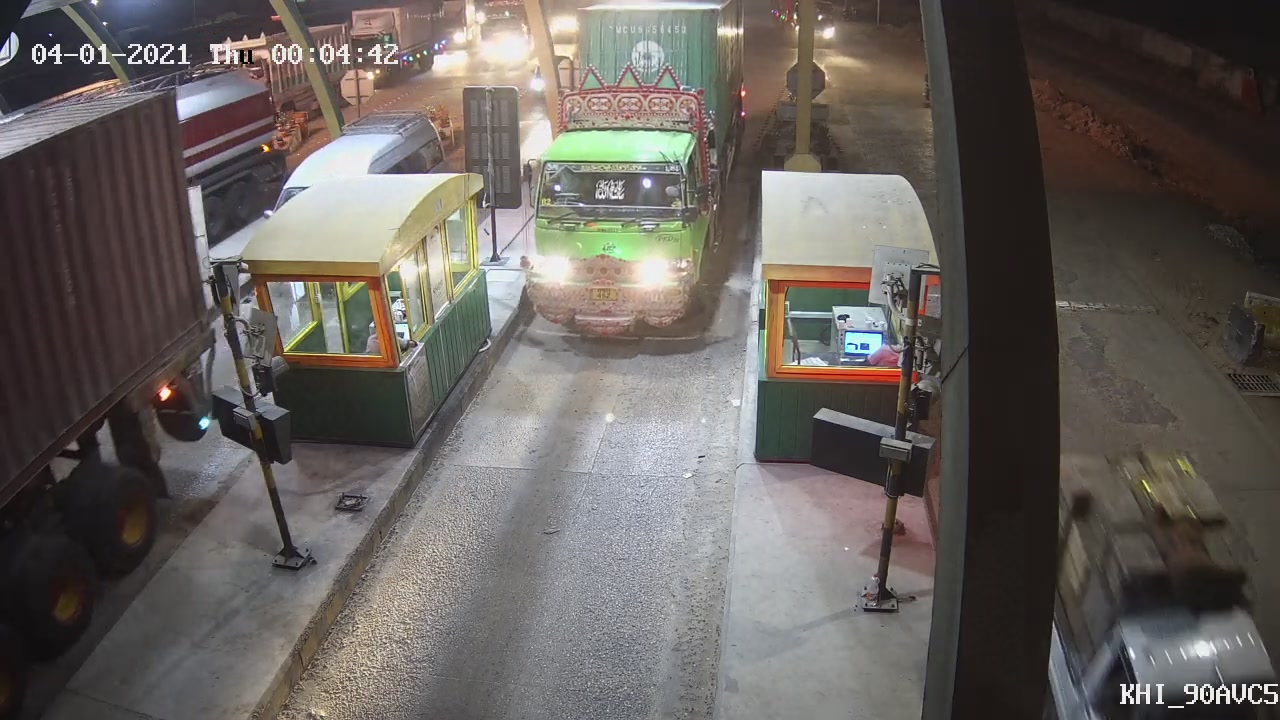F6: (518, 1, 754, 349)
